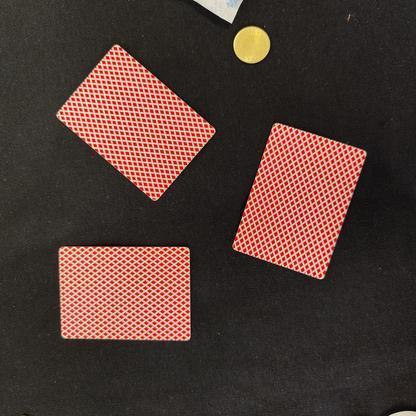card: (43, 37, 229, 208), (224, 112, 379, 288), (45, 234, 203, 350)
